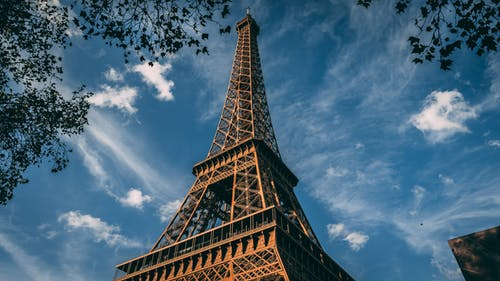eiffel tower: (111, 2, 361, 280)
